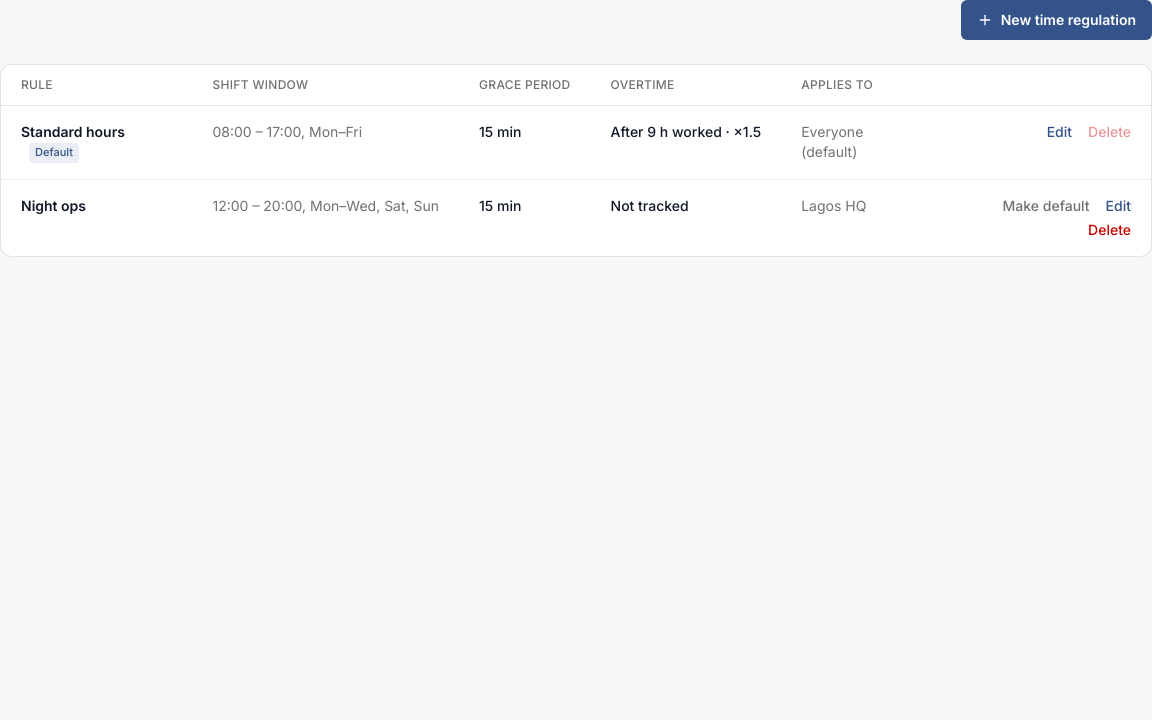
it: changing rules › opens an existing rule on its own basis
Click the button "Edit" in the row of "Standard hours".
click(1059, 132)  # box [1047,122,1072,142]
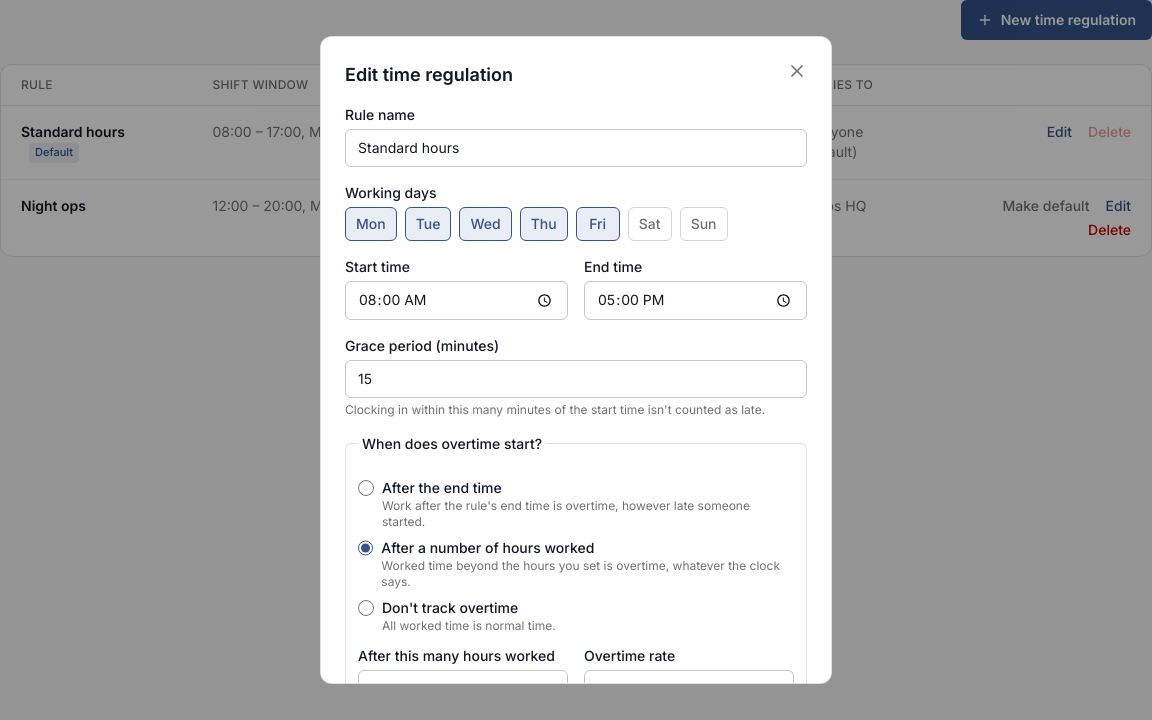
Expected: the radio button labelled "After a number of hours worked" is checked, [358,540,373,556]
